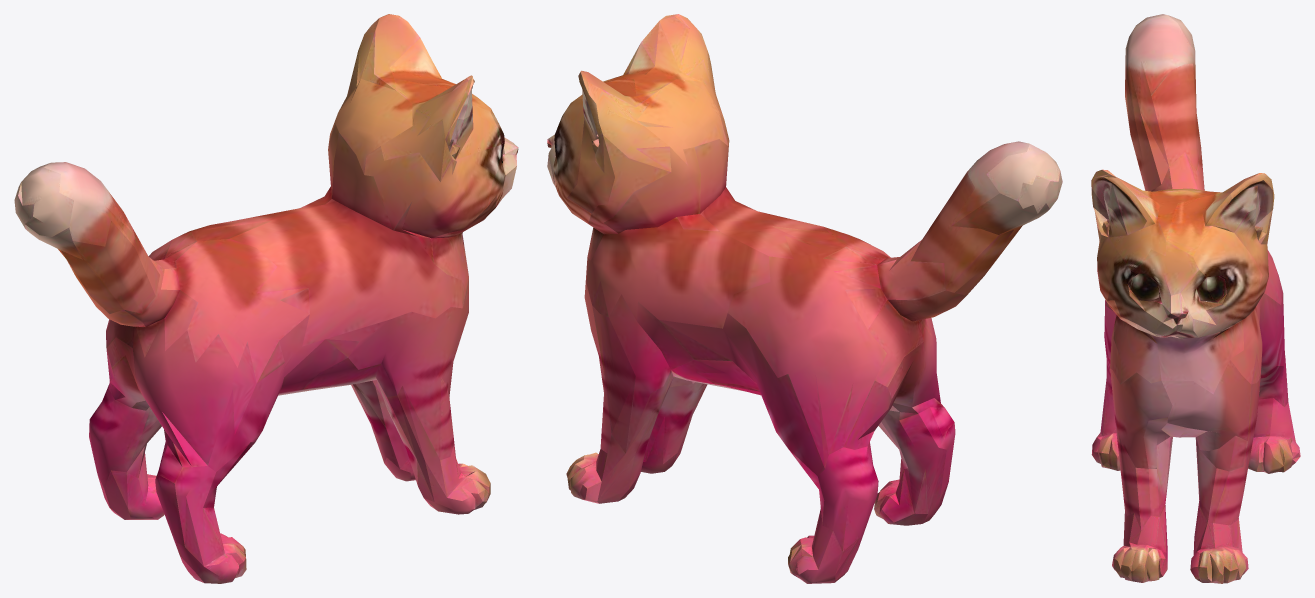
The model's file is vibing-cat-coin-lo.glb.
3 renders of one model, left to right at view 1: azimuth 30°, elevation 25°; view 2: azimuth 150°, elevation 25°; view 3: azimuth 270°, elevation 25°, orthographic. The views are drawn at different scales.
Parts seen in each view (by area): view 1: output_unwrapped; view 2: output_unwrapped; view 3: output_unwrapped.
Part boxes in pixels (x1,y1,x2,y2): output_unwrapped: (14,14,518,583); output_unwrapped: (547,14,1062,583); output_unwrapped: (1091,14,1300,583).
Size of the model in its own units: 1.2 by 1 by 0.474.
Materials: 1 (1 with a texture image).
